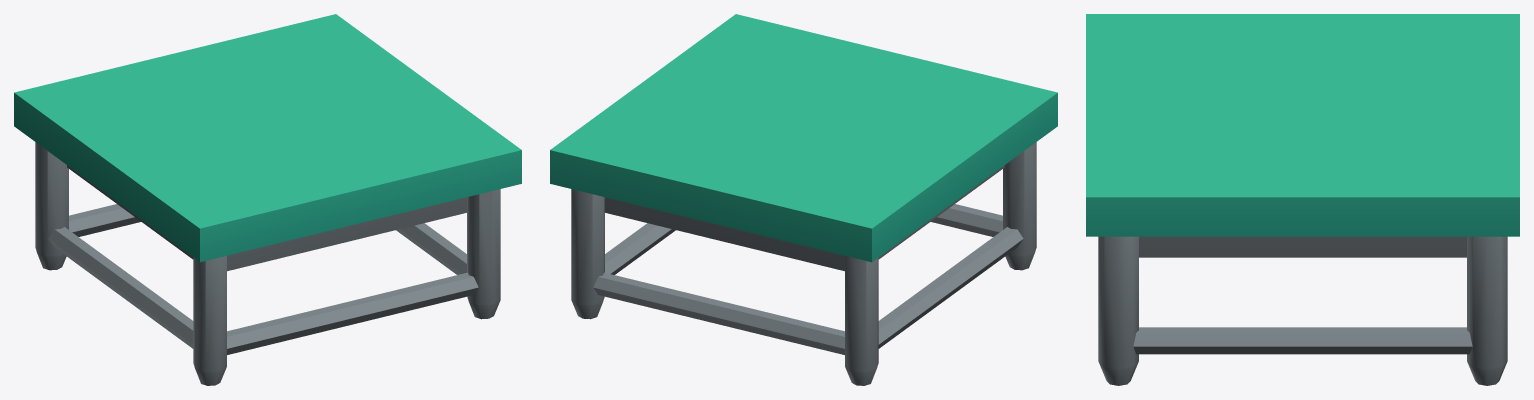
File: kitchentable_B.obj
The picture shows the model from 3 angles, left to right: view 1: azimuth 30°, elevation 25°; view 2: azimuth 150°, elevation 25°; view 3: azimuth 270°, elevation 25°; orthographic projection. The views are drawn at different scales.
Parts seen in each view (by area): view 1: kitchentable_B_Cube.182; view 2: kitchentable_B_Cube.182; view 3: kitchentable_B_Cube.182.
Part boxes in pixels (x1,y1,x2,y2): kitchentable_B_Cube.182: [14, 14, 521, 385]; kitchentable_B_Cube.182: [550, 14, 1057, 385]; kitchentable_B_Cube.182: [1086, 14, 1519, 385].
Size of the model in its own units: 2 by 1 by 2.
Materials: 1 (1 with a texture image).
